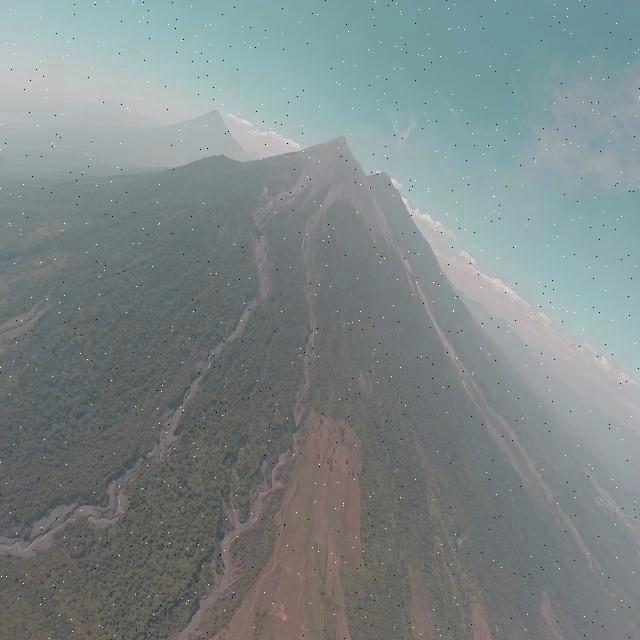Summit: (328, 132, 352, 147)
